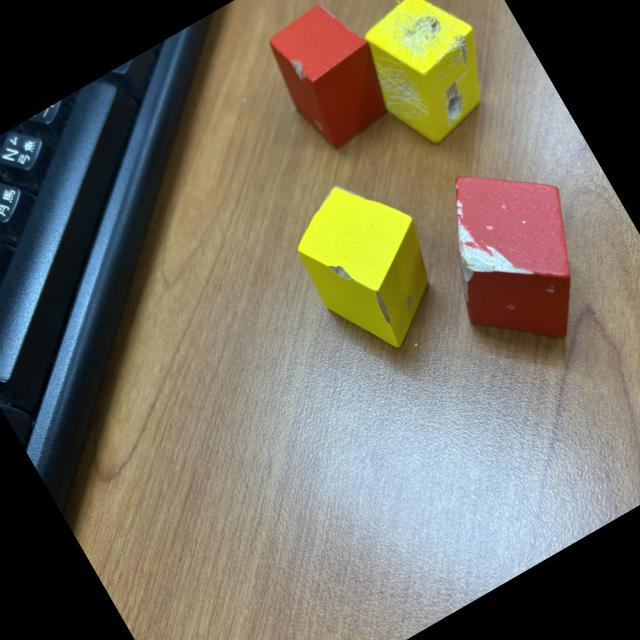broken: (404, 135, 625, 375), (275, 158, 467, 370), (341, 0, 514, 158), (256, 0, 406, 157)
